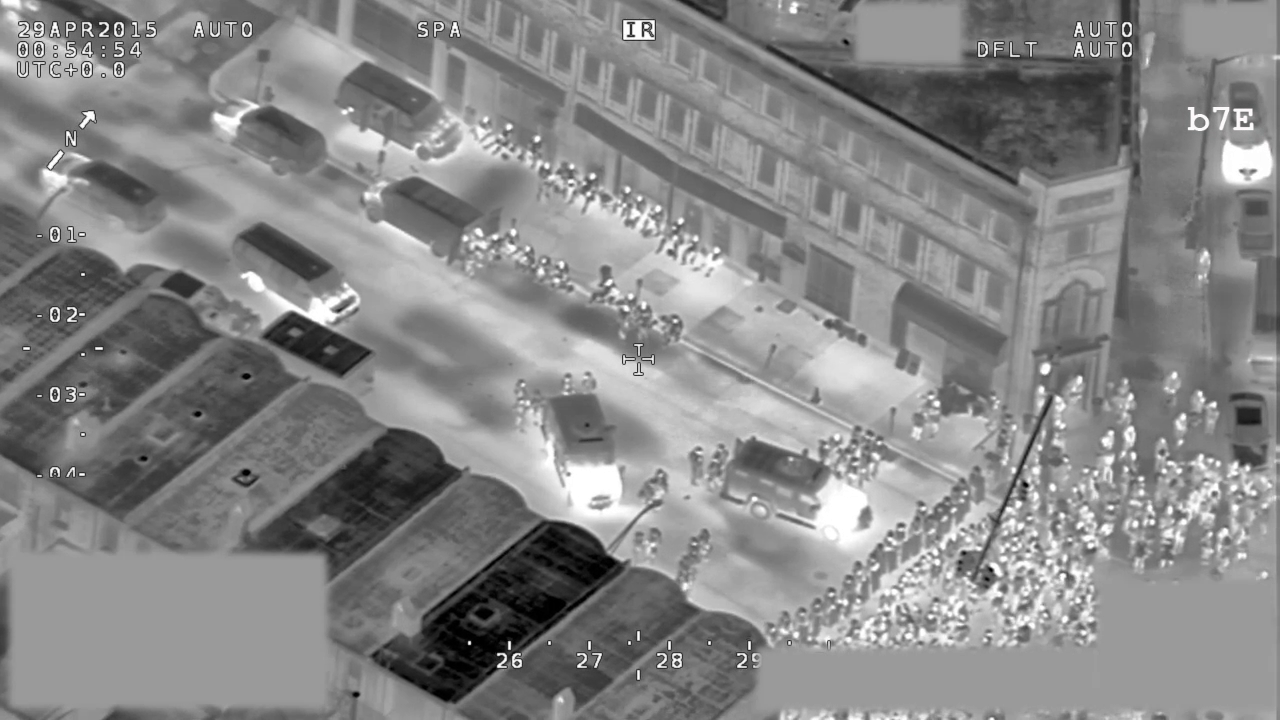vehicle: (720, 433, 877, 548), (356, 173, 504, 281), (221, 222, 365, 325), (331, 58, 467, 166), (38, 149, 174, 245), (538, 392, 628, 520), (263, 304, 383, 397), (122, 257, 260, 337), (208, 89, 331, 177), (1218, 80, 1277, 188), (1225, 391, 1273, 467), (1234, 187, 1277, 259)
